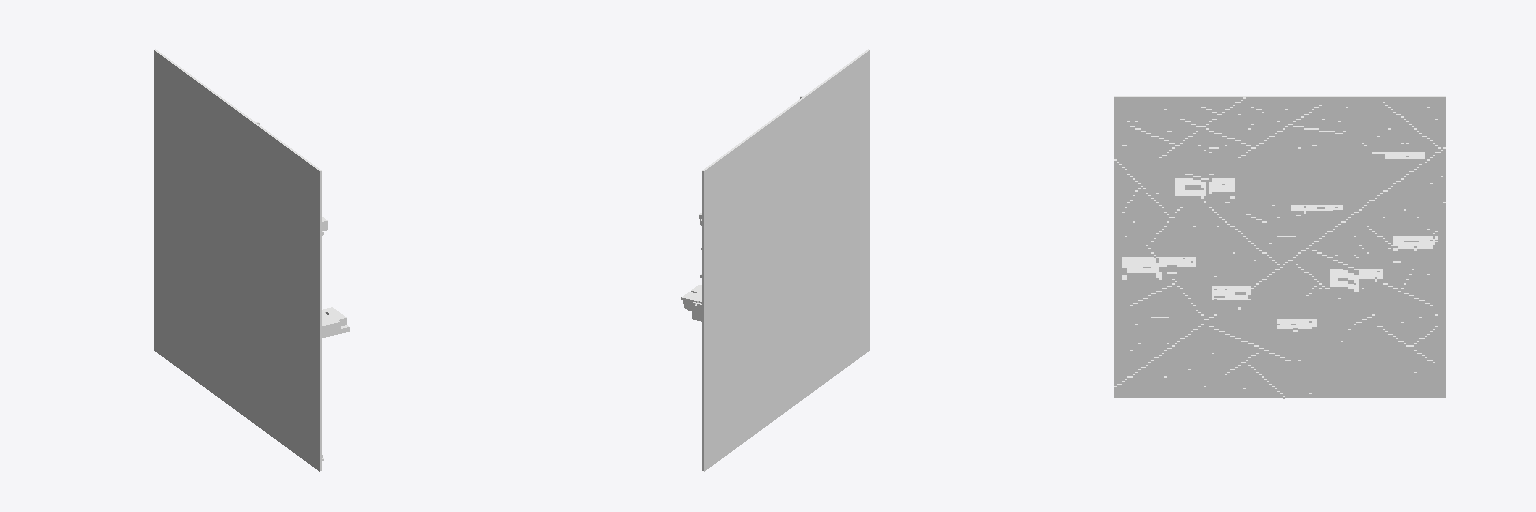
The model's file is val4.obj.
3 renders of one model, left to right at view 1: azimuth 30°, elevation 25°; view 2: azimuth 150°, elevation 25°; view 3: azimuth 270°, elevation 25°, orthographic.
Parts seen in each view (by area): view 1: val4; view 2: val4; view 3: val4.
Part boxes in pixels (x1,y1,x2,y2): val4: (154,49,349,471); val4: (681,49,869,471); val4: (1114,96,1445,398).
Bounding box in the file's own units: 17 × 126 × 126.